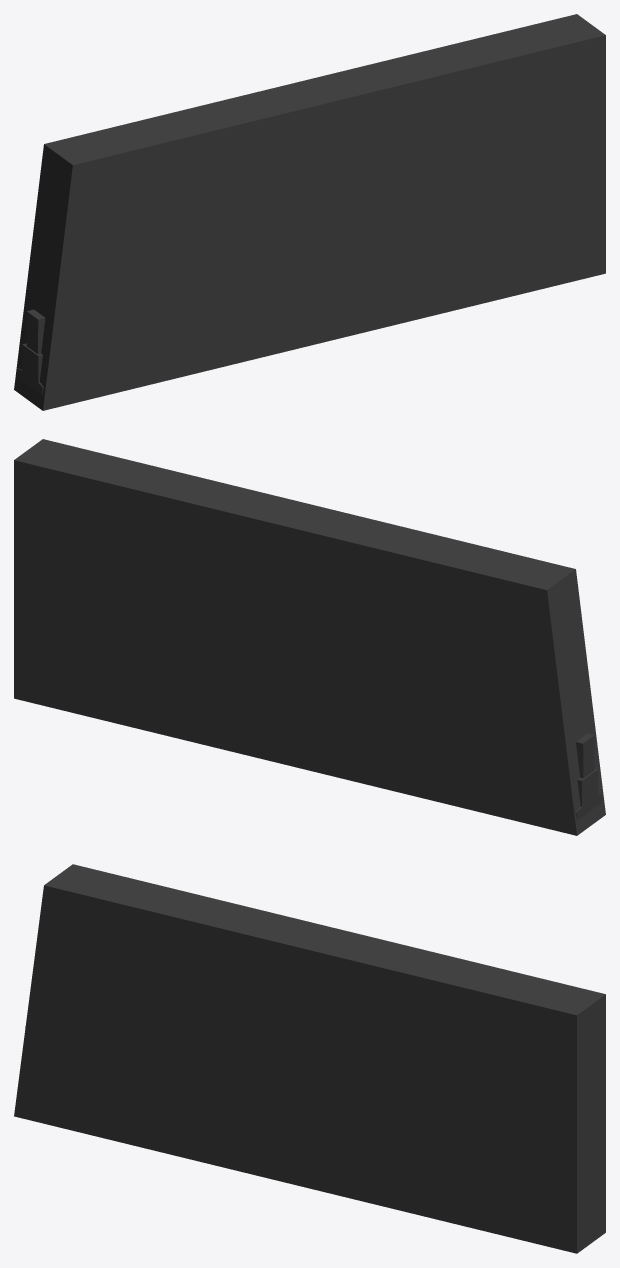
File: ruinwallsegment_01.glb
The picture shows the model from 3 angles, top to bottom: view 1: azimuth 30°, elevation 25°; view 2: azimuth 150°, elevation 25°; view 3: azimuth 330°, elevation 25°; orthographic projection.
Visible parts, largest first — view 1: geometry_0; view 2: geometry_0; view 3: geometry_0.
Boxes of the visible parts, bbox=[...] form: geometry_0: bbox=[14, 14, 605, 410]; geometry_0: bbox=[14, 439, 605, 835]; geometry_0: bbox=[14, 864, 605, 1253].
Size of the model in its own units: 12.65 by 5.12 by 1.13.
1 material, 1 textured.
